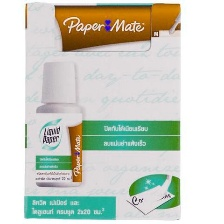book: (19, 0, 184, 221)
correction_fluid: (31, 59, 85, 190)
